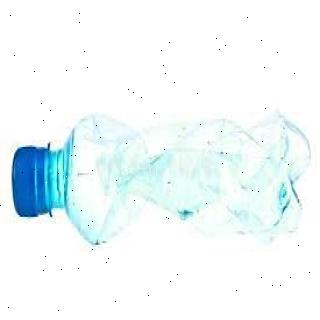Plastic-bottle: (10, 106, 313, 253)
